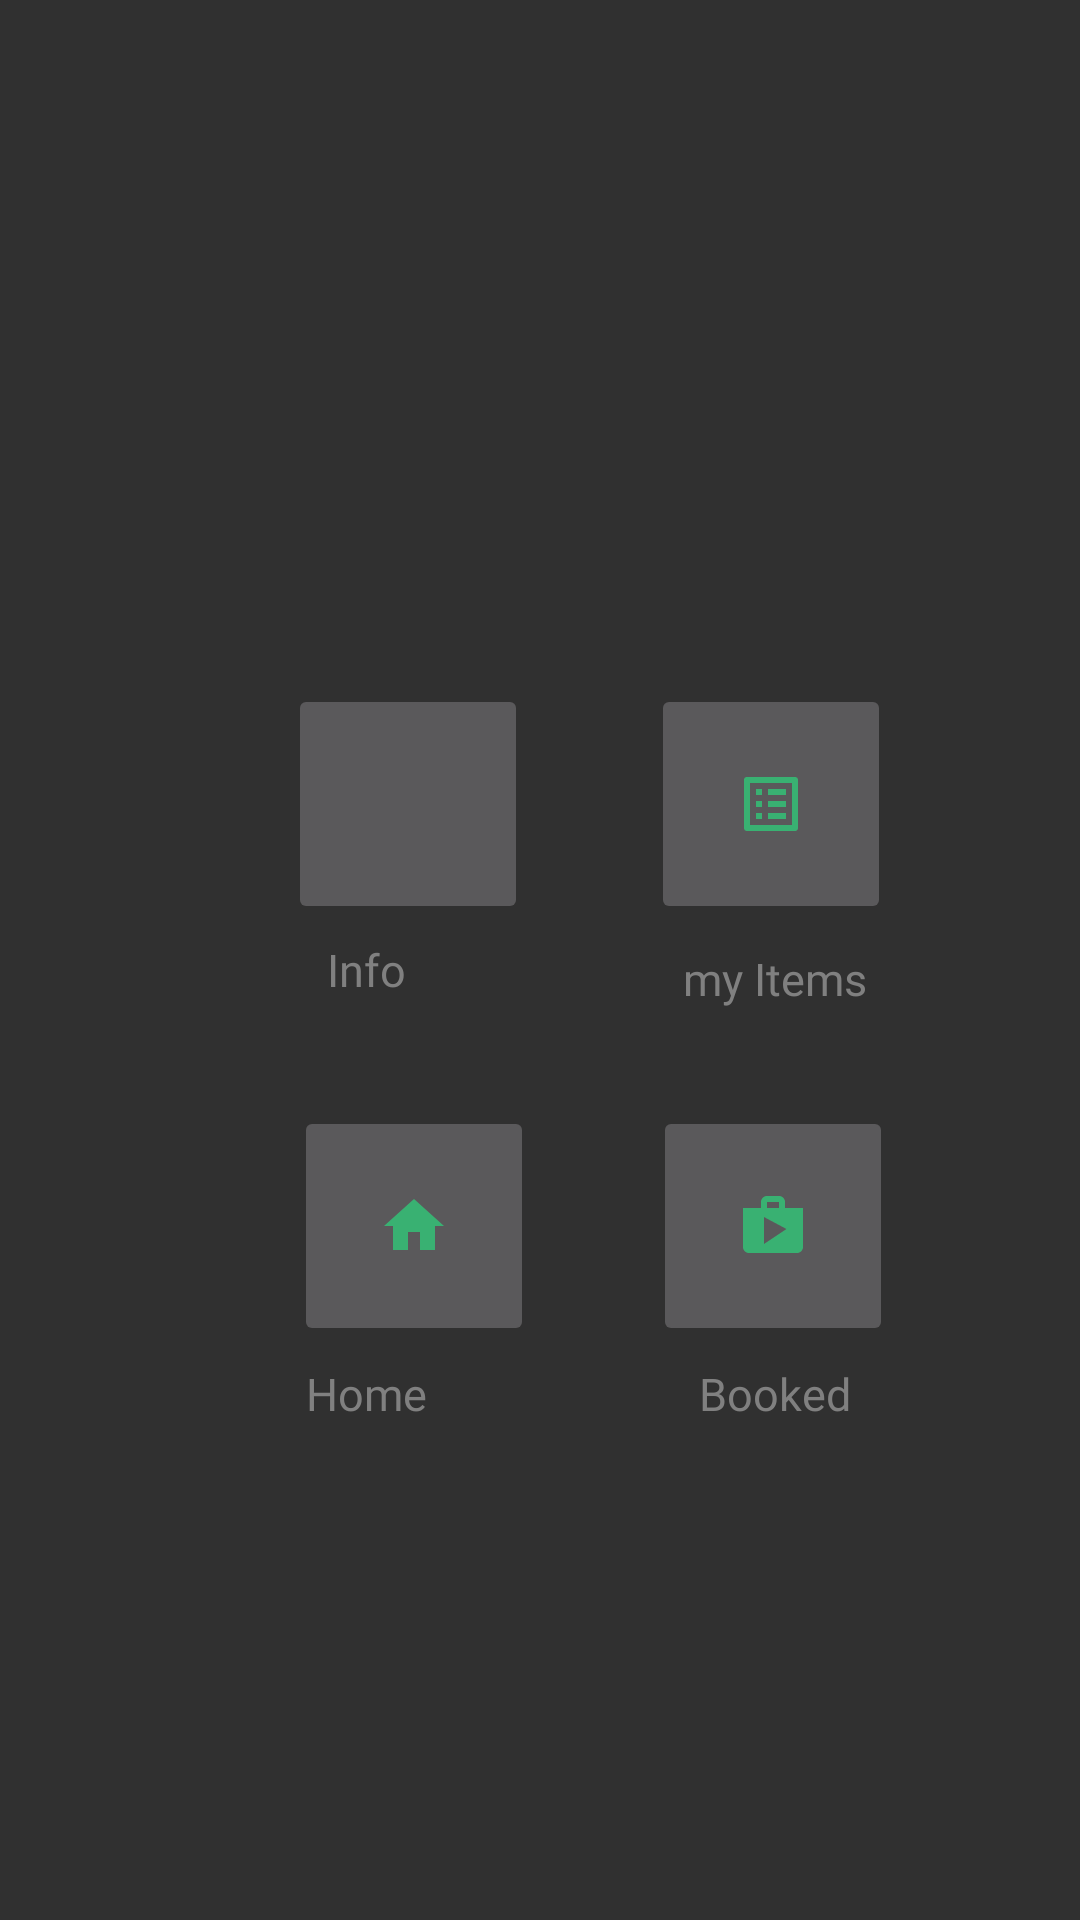

Icon click points for this 1080*1920 phone screenshot, format [x,y]:
list: [771,804]
shop: [773,1226]
